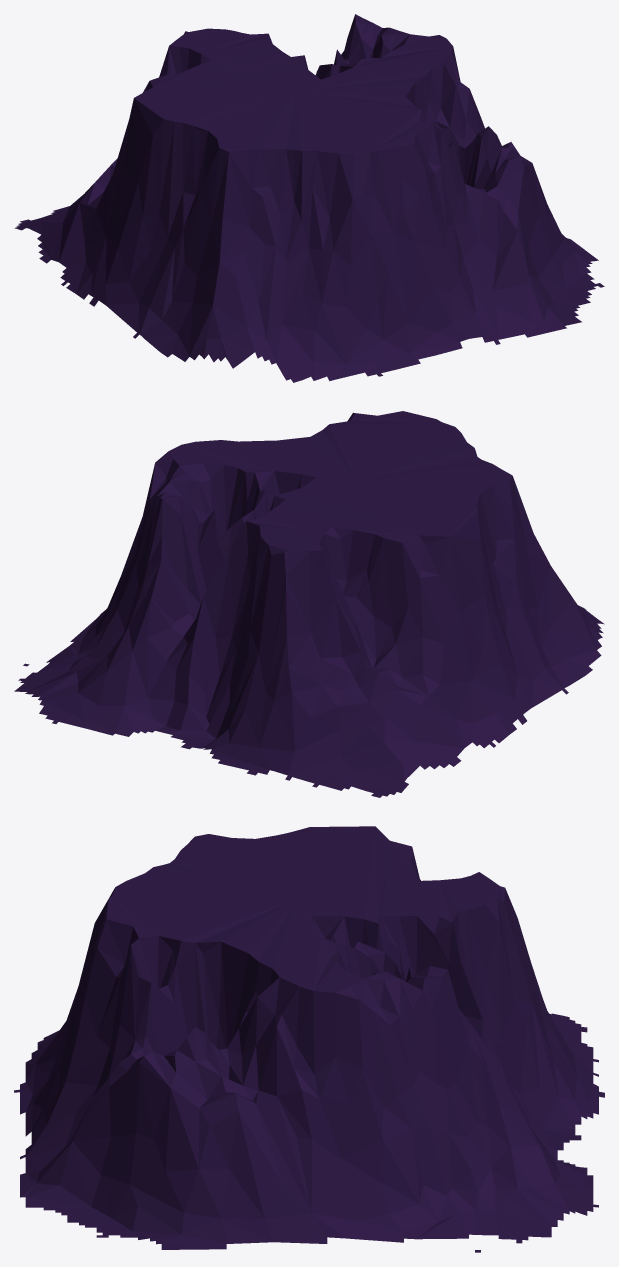
The picture shows the model from 3 angles, top to bottom: view 1: azimuth 30°, elevation 25°; view 2: azimuth 150°, elevation 25°; view 3: azimuth 270°, elevation 25°; orthographic projection. The views are drawn at different scales.
Parts seen in each view (by area): view 1: Landscape; view 2: Landscape; view 3: Landscape.
Boxes of the visible parts, box(x1,y1,x2,y2) form: Landscape: box(14, 14, 604, 382); Landscape: box(14, 411, 604, 797); Landscape: box(14, 826, 604, 1252).
Bounding box in the file's own units: 1960 × 802 × 2000.
